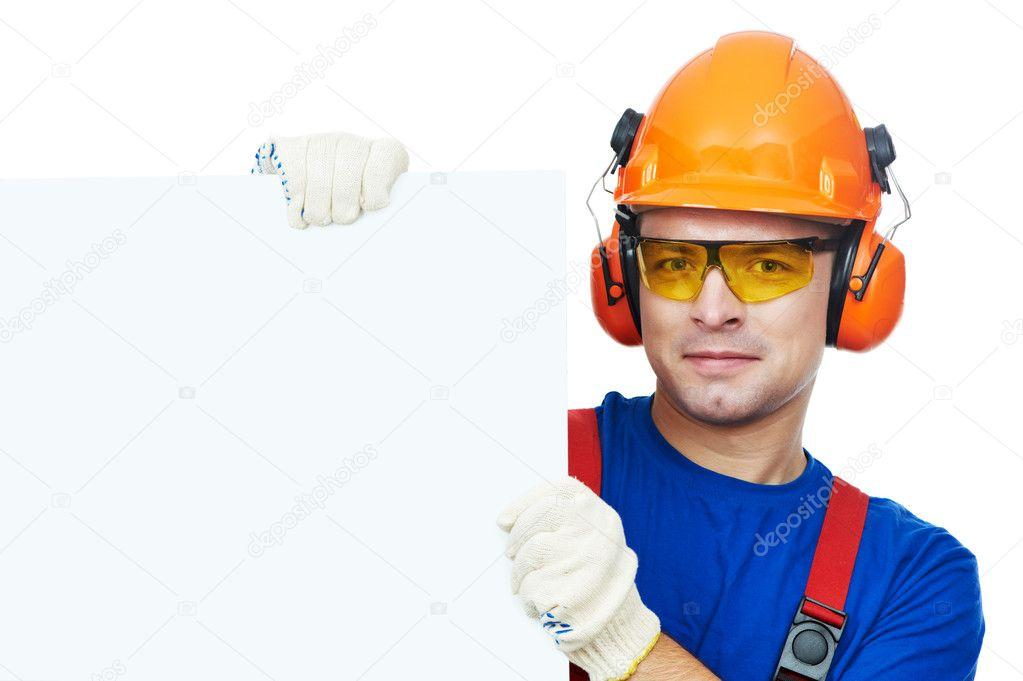helmet: (615, 33, 881, 222)
